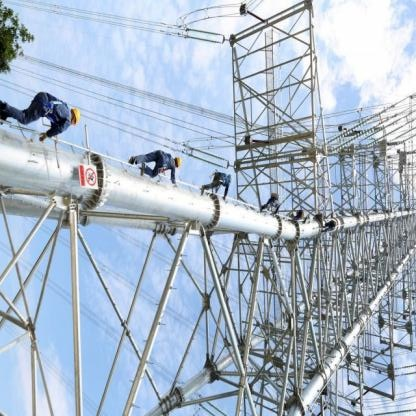yellow: (72, 107, 82, 128), (176, 154, 182, 170)
